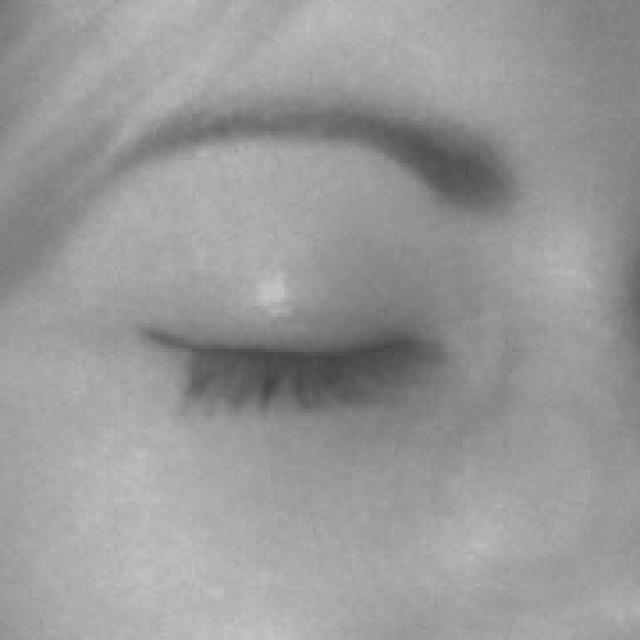Eyeclosed: (129, 224, 443, 516)
